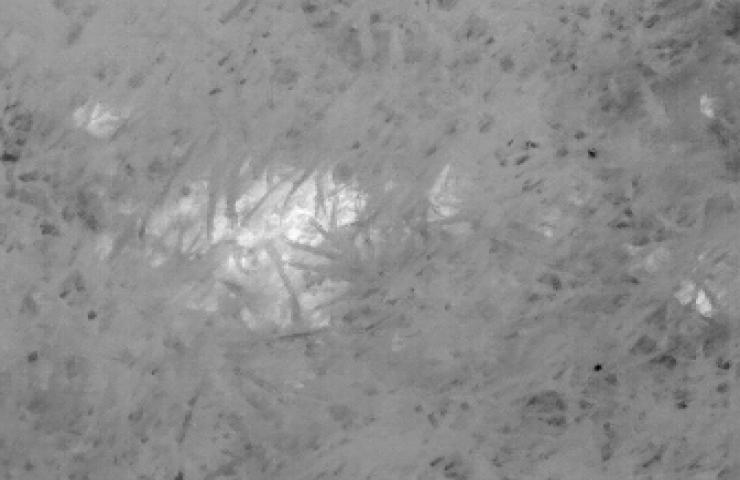landmines: (144, 166, 383, 336)
